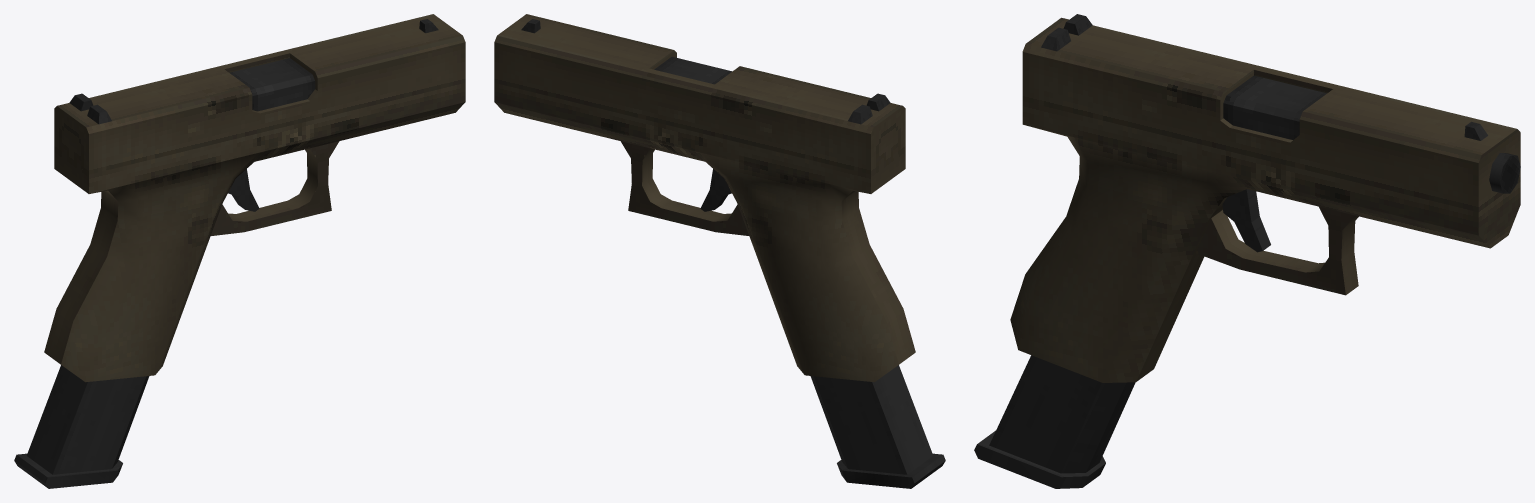
The model's file is pistol_mp_1_1.glb.
3 views of the same model, side by side, from view 1: azimuth 30°, elevation 25°; view 2: azimuth 150°, elevation 25°; view 3: azimuth 330°, elevation 25° (orthographic). The views are drawn at different scales.
Parts seen in each view (by area): view 1: pistol_mp_1_1, pistol_mp_1_1_slide, pistol_mp_1_1_mag_initial, pistol_mp_1_1_trigger; view 2: pistol_mp_1_1, pistol_mp_1_1_slide, pistol_mp_1_1_mag_initial, pistol_mp_1_1_trigger; view 3: pistol_mp_1_1, pistol_mp_1_1_slide, pistol_mp_1_1_mag_initial, pistol_mp_1_1_trigger.
Boxes of the visible parts, box(x1,y1,x2,y2) form: pistol_mp_1_1: box(44, 58, 465, 382); pistol_mp_1_1_slide: box(54, 14, 465, 174); pistol_mp_1_1_mag_initial: box(14, 365, 149, 488); pistol_mp_1_1_trigger: box(228, 169, 259, 211); pistol_mp_1_1: box(494, 56, 915, 382); pistol_mp_1_1_slide: box(494, 14, 905, 174); pistol_mp_1_1_mag_initial: box(810, 365, 945, 488); pistol_mp_1_1_trigger: box(700, 169, 731, 211); pistol_mp_1_1: box(1010, 75, 1520, 382); pistol_mp_1_1_slide: box(1022, 14, 1520, 211); pistol_mp_1_1_mag_initial: box(974, 355, 1135, 488); pistol_mp_1_1_trigger: box(1222, 189, 1270, 252).
Bounding box in the file's own units: 0.2842 × 0.2359 × 0.04.
2 materials, 2 textured.
